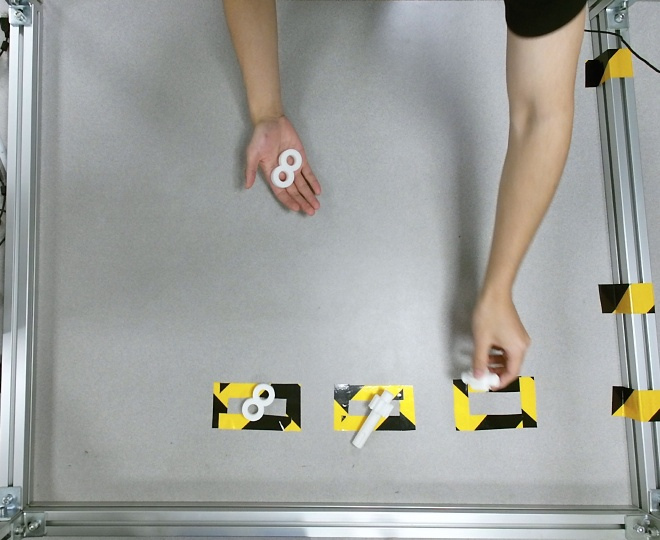stage_1: (270, 148, 302, 188)
